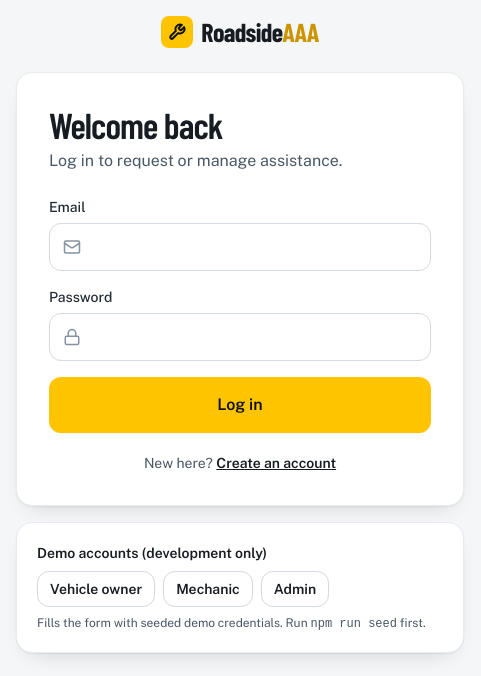
Login page › fills the form from a demo account button
The image size is (481, 676).
Click the button "Mechanic". click: [208, 588]
box: left=163, top=570, right=253, bottom=606
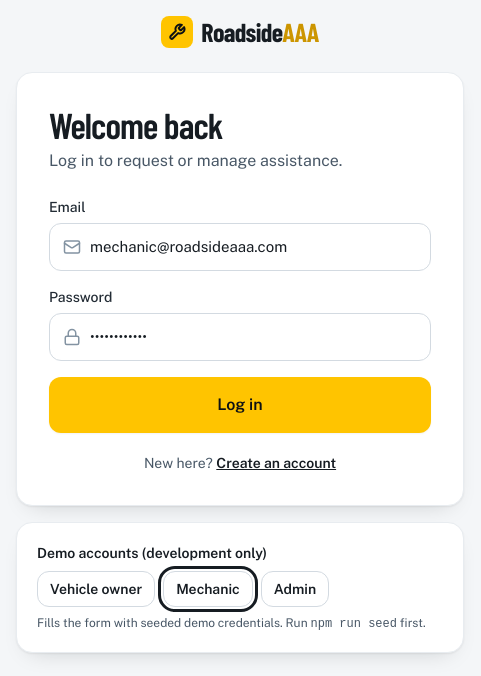
Check: the field labelled "Email" holds "mechanic@roadsideaaa.com", box left=49, top=222, right=431, bottom=270
Check: the password field labelled "Password" holds "Mechanic@123", box left=49, top=312, right=431, bottom=360
